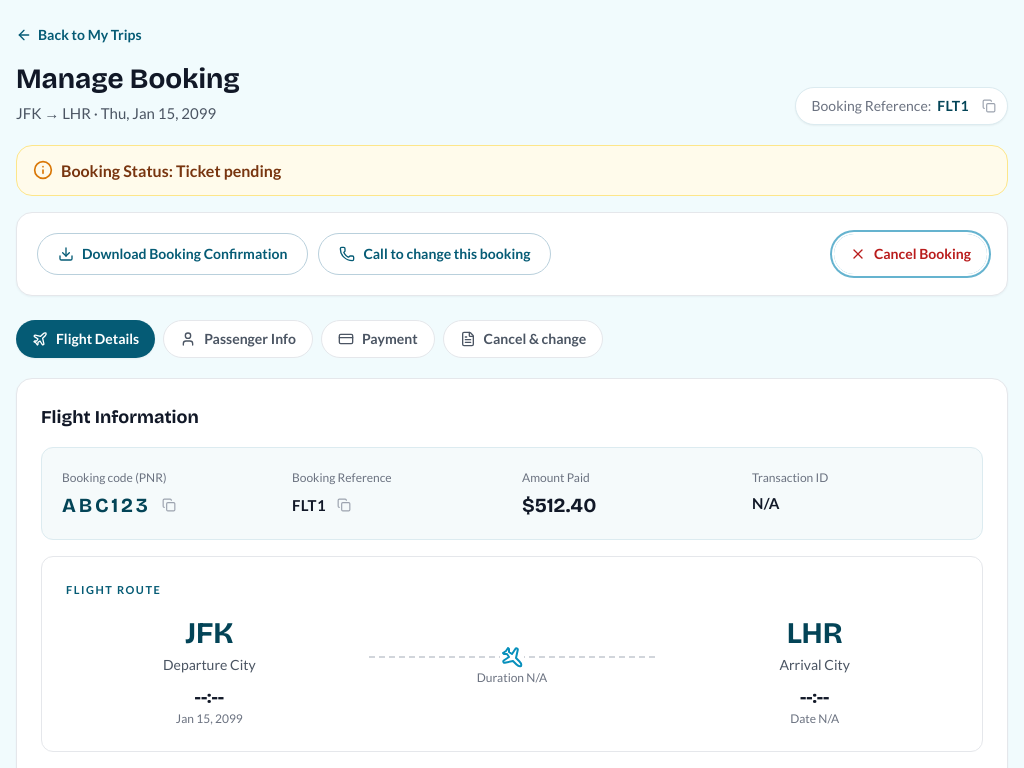
Manage Booking › opens the cancel pop-up as a labelled dialog with focus inside, and closes it on Escape
This screenshot has width=1024, height=768.
Click the button "Cancel Booking" at (910, 254), box [834,234,987,274]
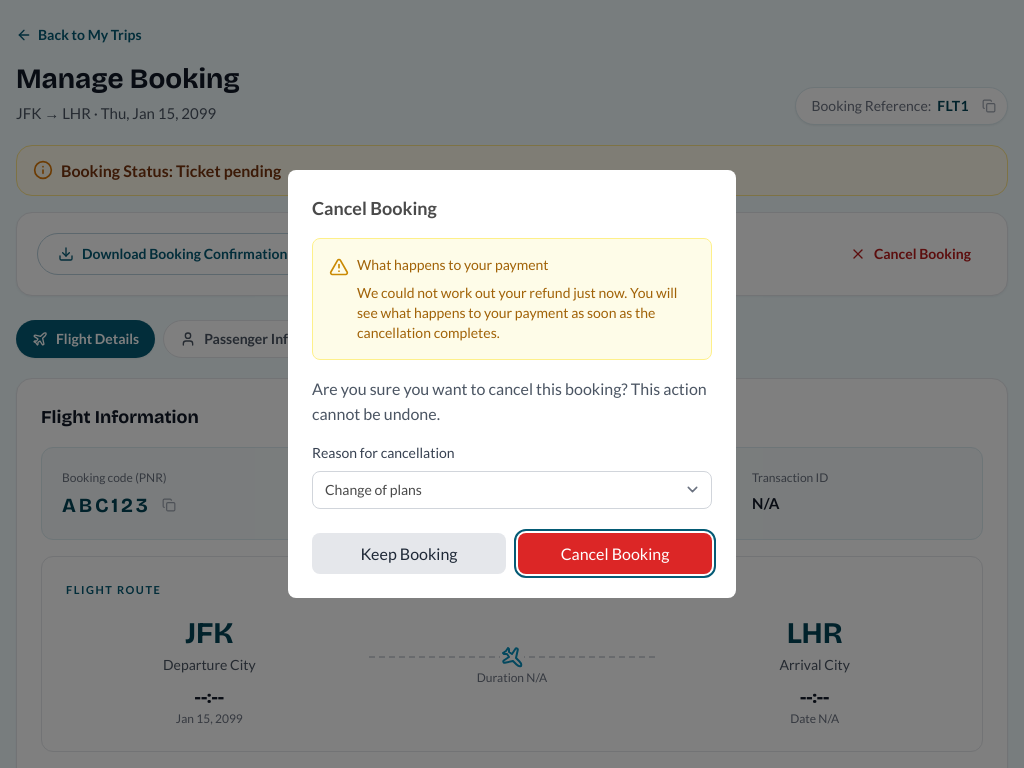
Expected: the button "Keep Booking" is shown, [312,533,506,574]
Press Tab in the dialog "Cancel Booking", box [288,170,736,598]
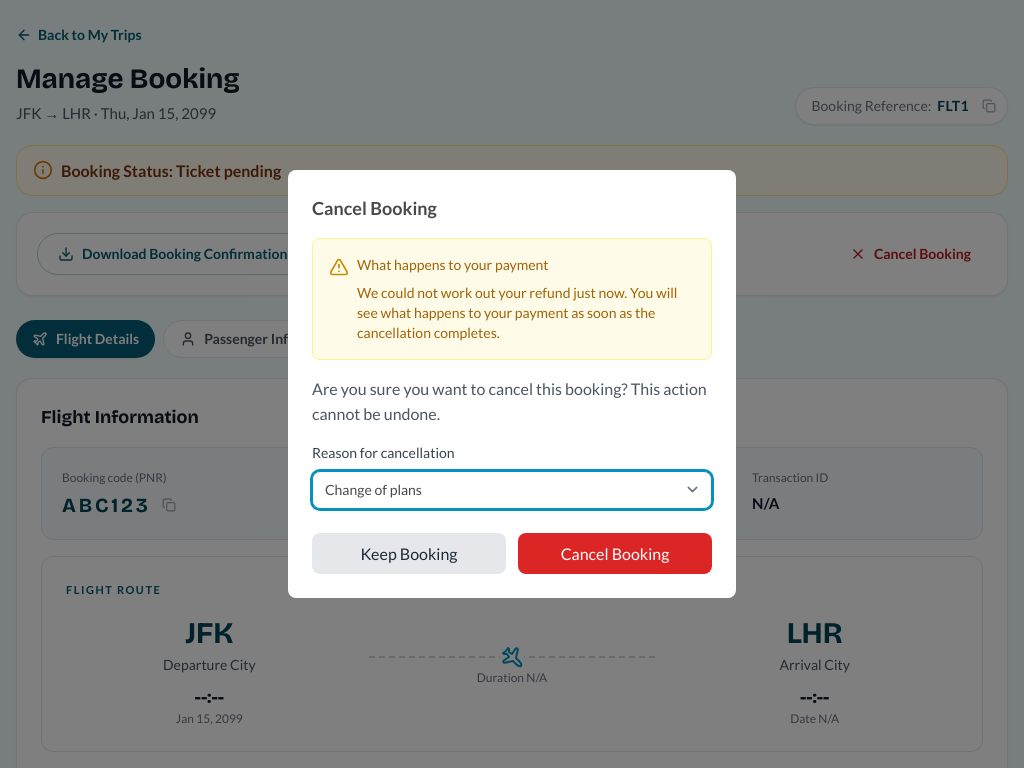
Press Tab in the dialog "Cancel Booking", box [288,170,736,598]
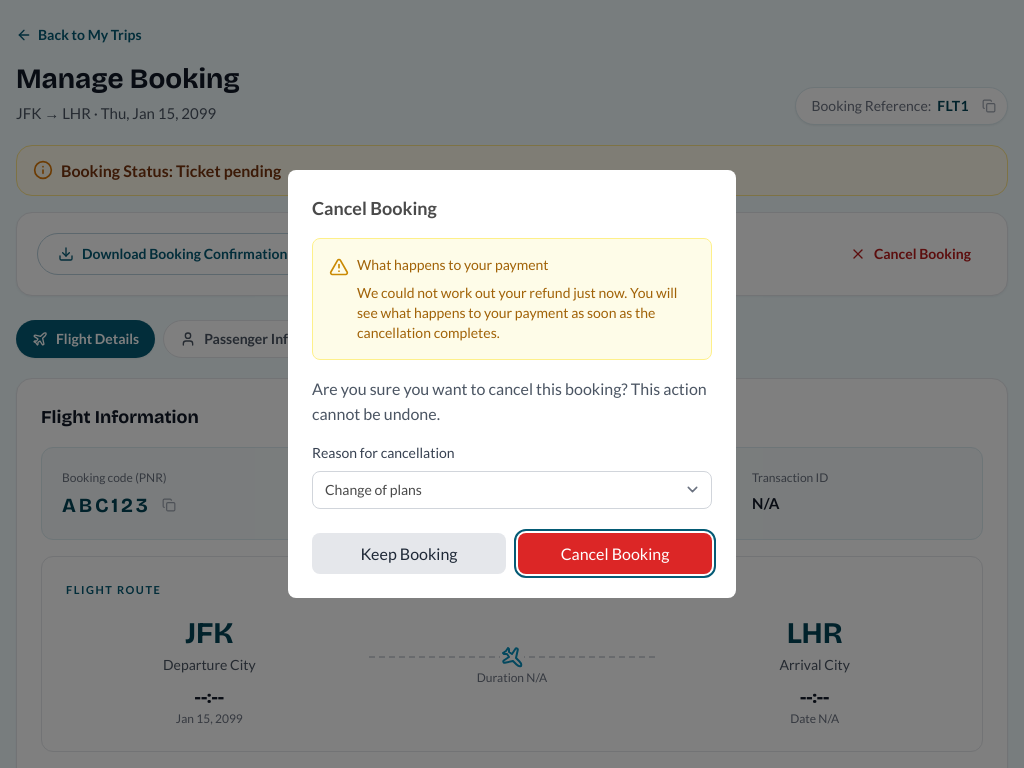
Press Escape in the dialog "Cancel Booking", box [288,170,736,598]
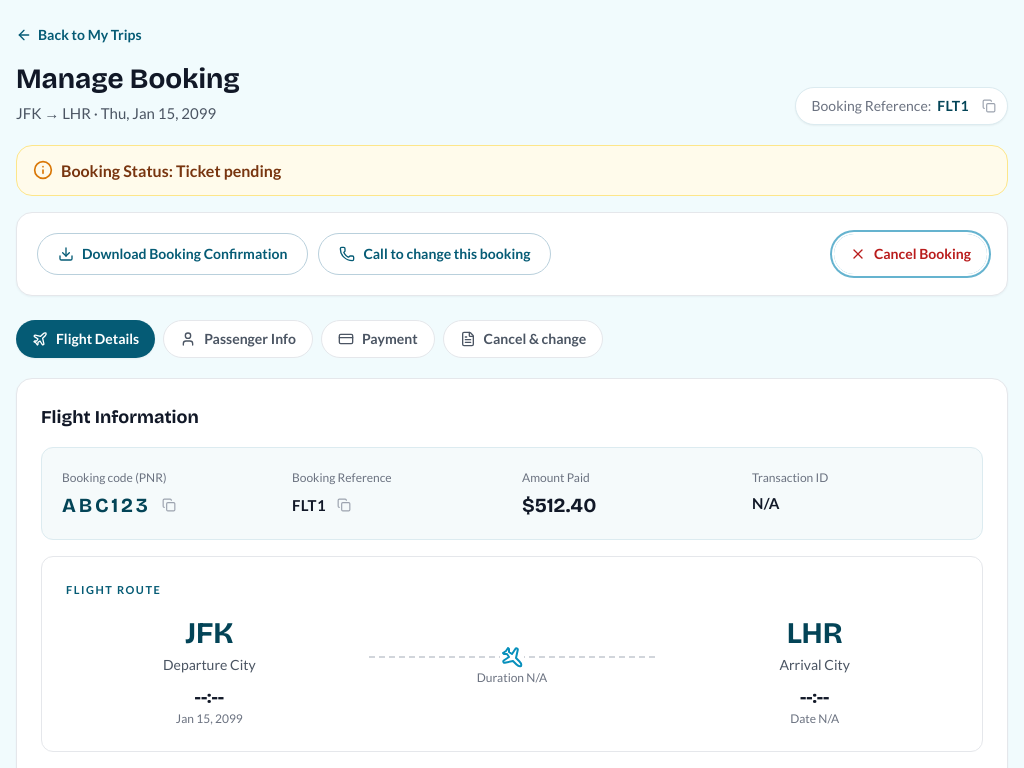
Expected: the dialog is gone
